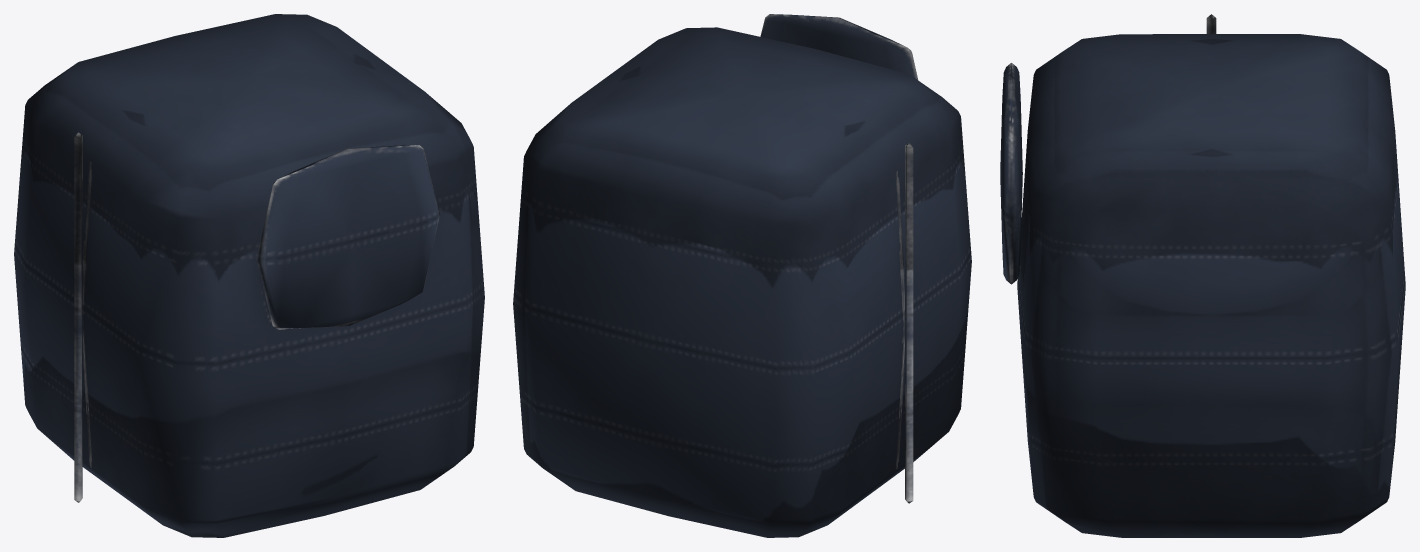
The model's file is MatonImp_PantalonAbajoDer.fbx.
3 renders of one model, left to right at view 1: azimuth 30°, elevation 25°; view 2: azimuth 150°, elevation 25°; view 3: azimuth 270°, elevation 25°, orthographic. The views are drawn at different scales.
Parts seen in each view (by area): view 1: MatonImp_PantalonAbajoDer; view 2: MatonImp_PantalonAbajoDer; view 3: MatonImp_PantalonAbajoDer.
Part boxes in pixels (x1,y1,x2,y2): MatonImp_PantalonAbajoDer: (14, 14, 484, 537); MatonImp_PantalonAbajoDer: (513, 14, 971, 537); MatonImp_PantalonAbajoDer: (1000, 14, 1405, 537).
Size of the model in its own units: 1.26 by 1.39 by 1.28.
